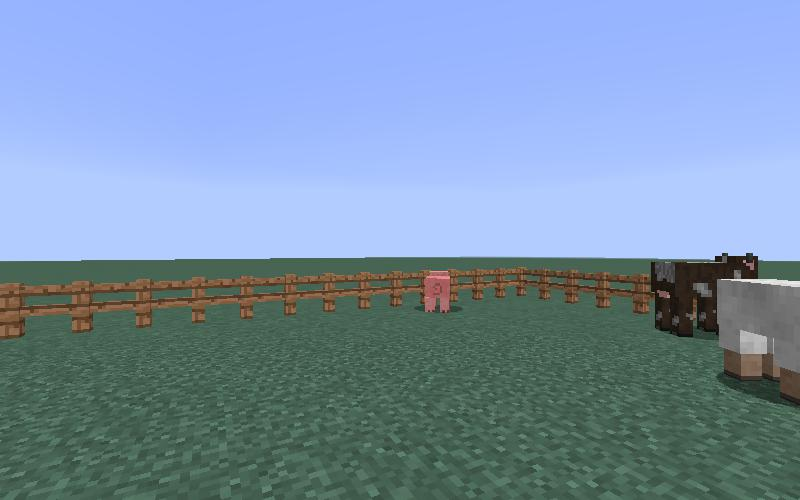cow: (652, 253, 758, 337)
pig: (418, 264, 454, 320)
sheep: (716, 279, 800, 403)
